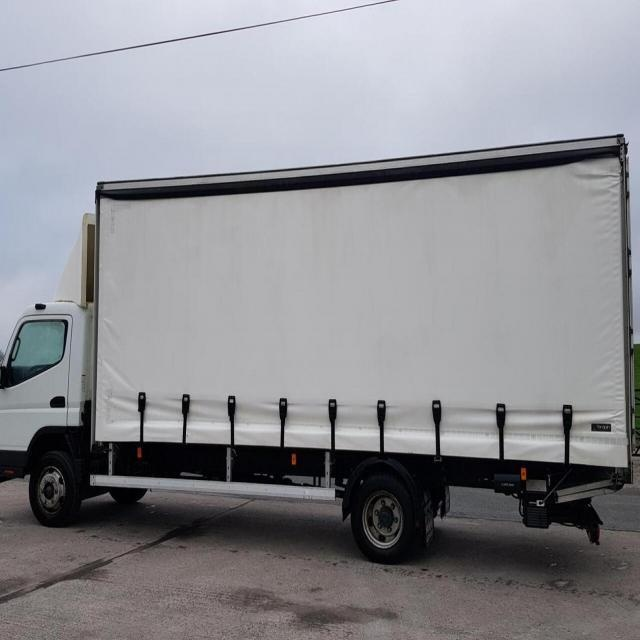Truck: (0, 135, 632, 560)
